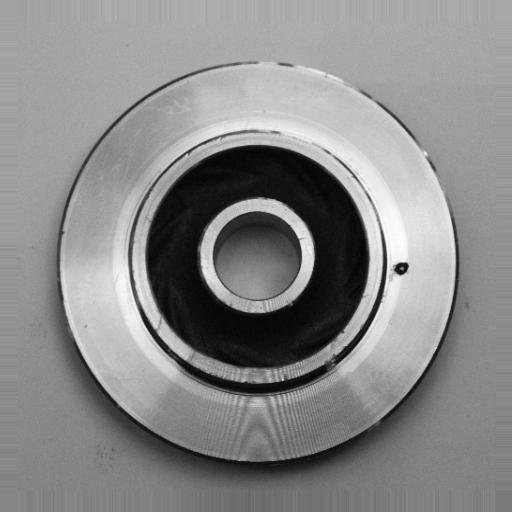pit: (388, 253, 415, 286)
scratch: (263, 124, 338, 156)
unpolished_casting: (55, 56, 466, 465)
